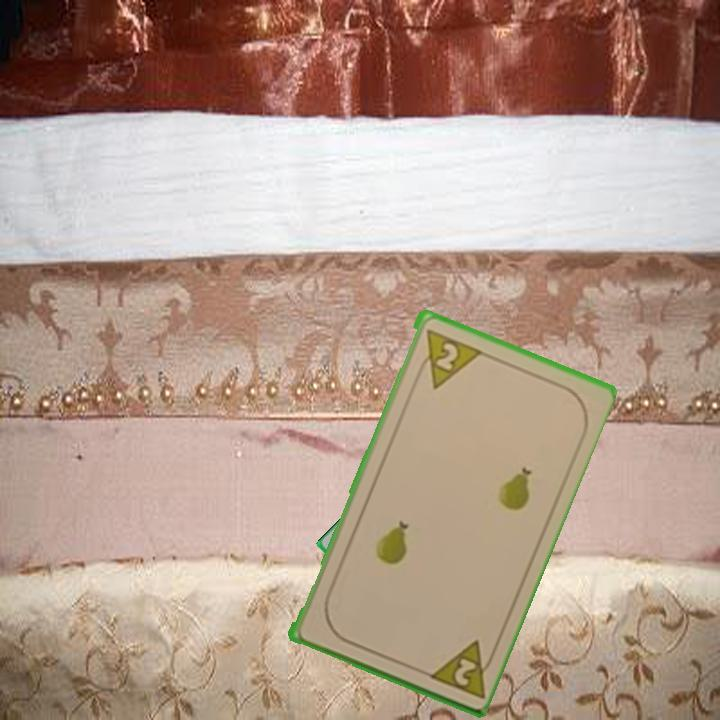2p: (422, 635, 499, 701), (413, 324, 482, 392)
